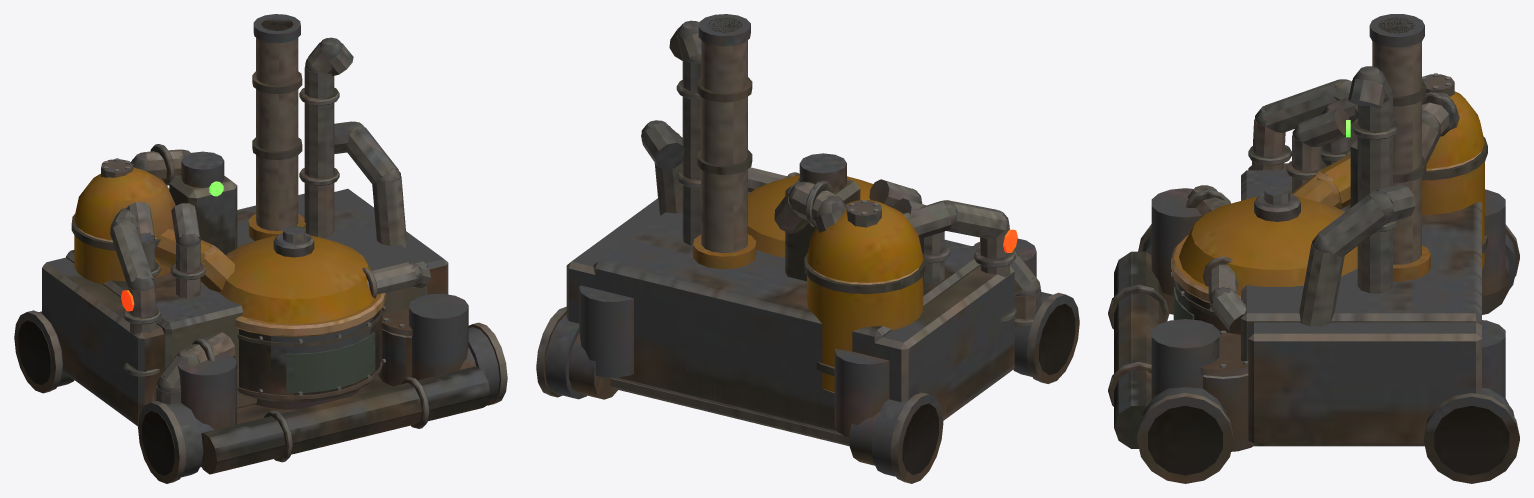
Rendered from chemical-plant-east.glb.
3 renders of one model, left to right at view 1: azimuth 30°, elevation 25°; view 2: azimuth 150°, elevation 25°; view 3: azimuth 270°, elevation 25°, orthographic. The views are drawn at different scales.
Parts seen in each view (by area): view 1: body; view 2: body; view 3: body.
Part boxes in pixels (x1=…): body: x1=14, y1=14, x2=507, y2=483; body: x1=536, y1=14, x2=1079, y2=483; body: x1=1108, y1=14, x2=1519, y2=483.
Size of the model in its own units: 3.01 by 2.96 by 2.82.
Materials: 3 (3 with a texture image).
